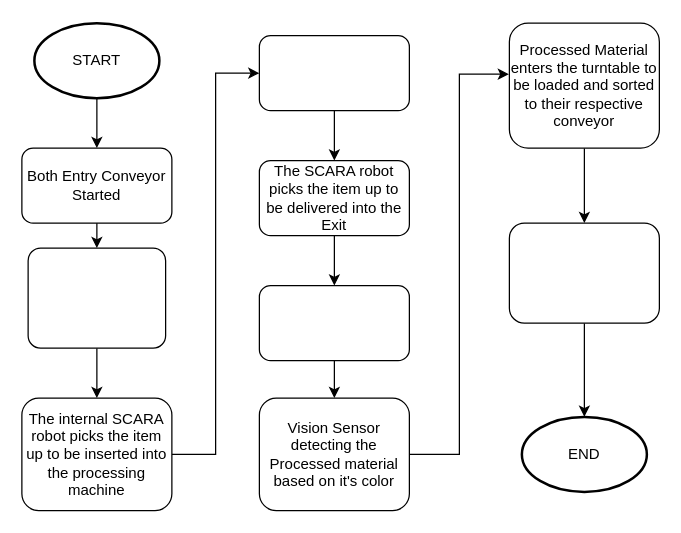
This 681x533 diagram has some shape labels left out. Each missing label, with the centre of its shape:
"Retroreflectie Sensor and Vision Sensor Detecting Raw Material Enters" belongs at (96,297).
"The Item now get out of the system via their corresponding conveyor belt" belongs at (583,272).
"The Machining Center Process Raw Material into a ready material" belongs at (333,72).
"The Processed material enter the Exit Conveyor to be then sorted by it's color" belongs at (333,322).
